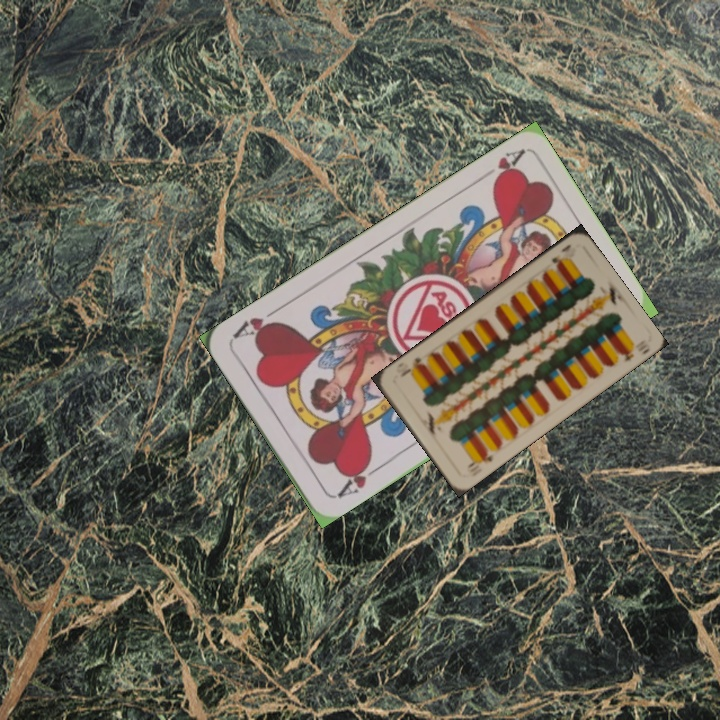E10: (547, 240, 574, 270), (463, 447, 496, 471)
HA: (330, 455, 383, 501), (473, 146, 526, 188)
